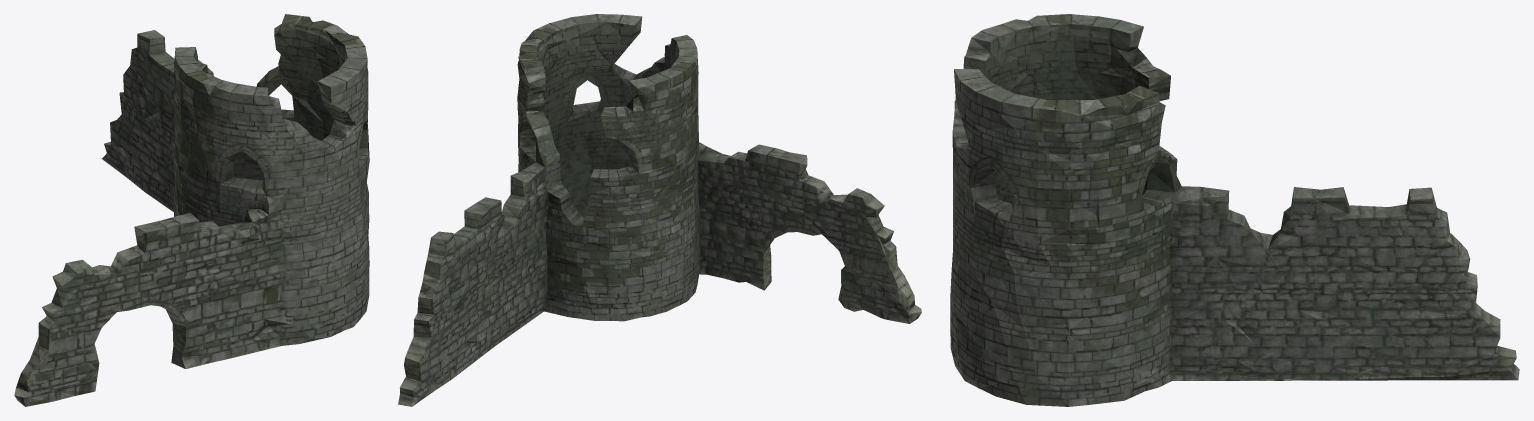
Rendered from ruin.glb.
3 views of the same model, side by side, from view 1: azimuth 30°, elevation 25°; view 2: azimuth 150°, elevation 25°; view 3: azimuth 270°, elevation 25° (orthographic). The views are drawn at different scales.
Visible parts, largest first — view 1: ruin_lowpoly; view 2: ruin_lowpoly; view 3: ruin_lowpoly.
Boxes of the visible parts, x1,y1,x2,y2 form: ruin_lowpoly: (14,14,369,406); ruin_lowpoly: (398,14,921,406); ruin_lowpoly: (950,14,1519,406).
Size of the model in its own units: 2.76 by 1.73 by 3.
Materials: 1 (1 with a texture image).
